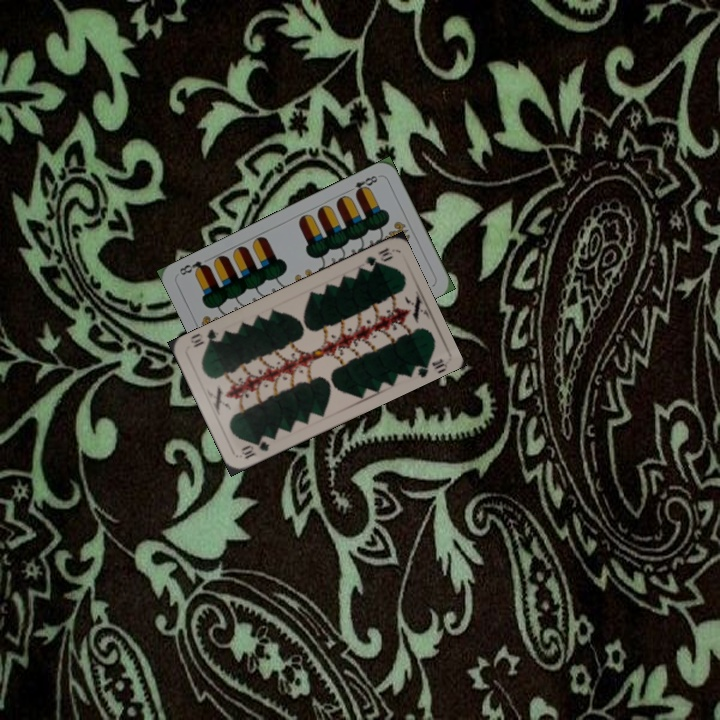E8: (344, 171, 380, 198)
G10: (358, 244, 396, 273), (237, 435, 272, 462)
